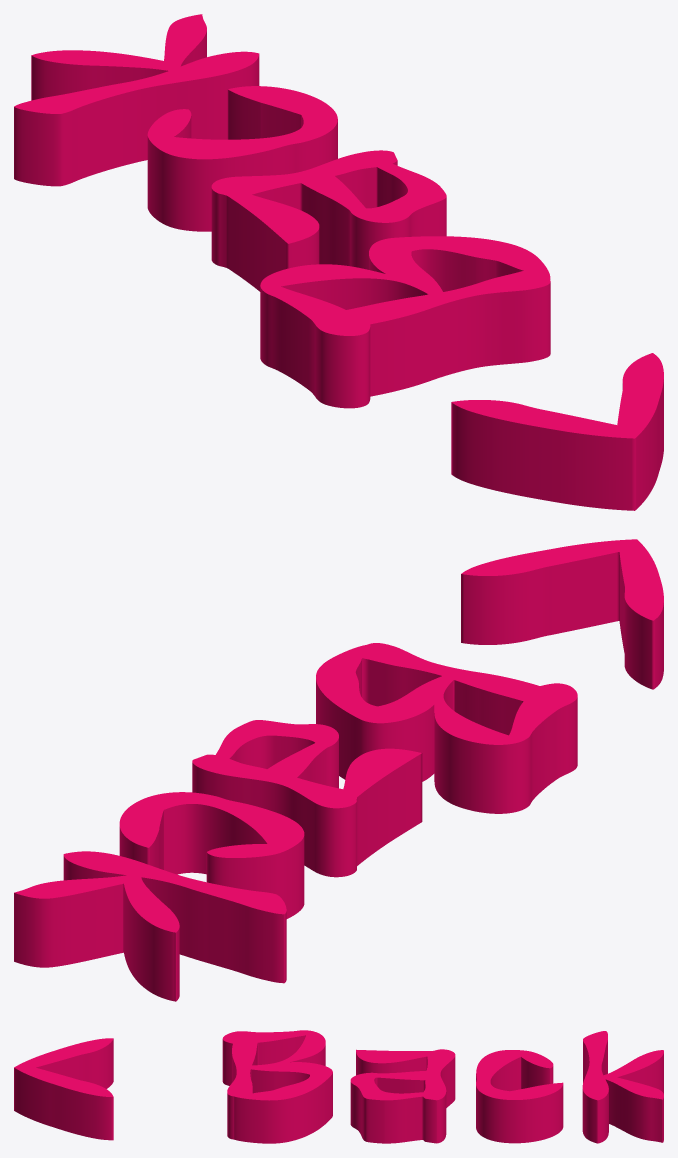
File: text_back_credit_building.glb
3 views of the same model, one above another, from view 1: azimuth 30°, elevation 25°; view 2: azimuth 150°, elevation 25°; view 3: azimuth 270°, elevation 25° (orthographic). The views are drawn at different scales.
Visible parts, largest first — view 1: Text.010; view 2: Text.010; view 3: Text.010.
Boxes of the visible parts, left/top/right/bottom form: Text.010: left=14, top=14, right=663, bottom=510; Text.010: left=14, top=539, right=663, bottom=1001; Text.010: left=14, top=1030, right=663, bottom=1143.
Bounding box in the file's own units: 0.2553 × 0.0733 × 0.9986.
